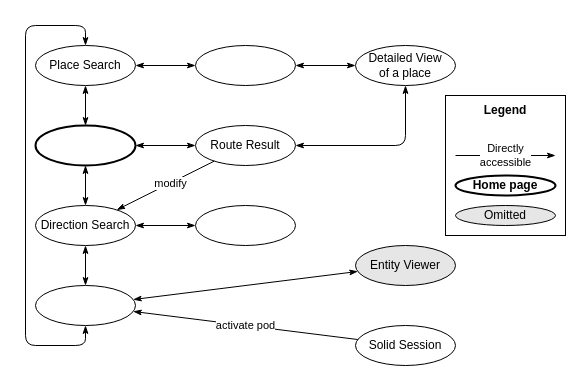
The diagram is 583 pixels wide and 383 high, and some of its shapes have lost their labels. Each missing label, with the box of its shape:
Direction Result: (194, 204, 296, 246)
Favorites: (34, 284, 136, 326)
Place Result: (194, 44, 296, 86)
Route Search: (34, 124, 136, 166)
